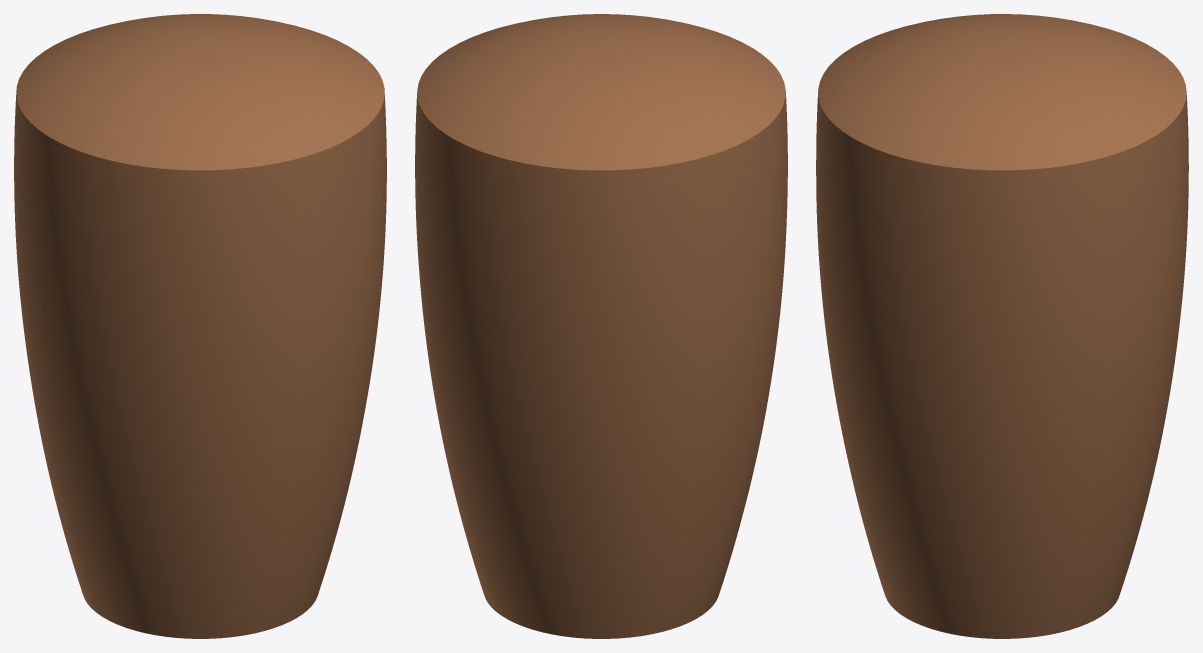
Rendered from kebab.obj.
The picture shows the model from 3 angles, left to right: view 1: azimuth 30°, elevation 25°; view 2: azimuth 150°, elevation 25°; view 3: azimuth 270°, elevation 25°; orthographic projection.
Parts seen in each view (by area): view 1: Mesh1 d_ner1 Model; view 2: Mesh1 d_ner1 Model; view 3: Mesh1 d_ner1 Model.
Part boxes in pixels (x1,y1,x2,y2): Mesh1 d_ner1 Model: (14,14,386,638); Mesh1 d_ner1 Model: (415,14,787,638); Mesh1 d_ner1 Model: (816,14,1188,638).
Bounding box in the file's own units: 37.22 × 59.07 × 37.2.
